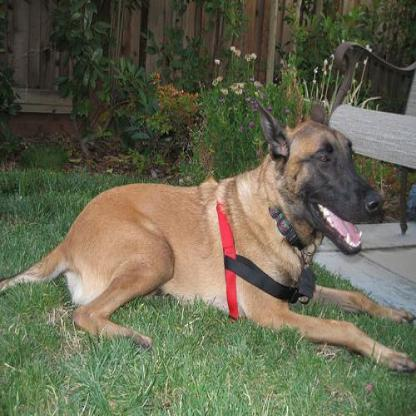malinois: (0, 100, 414, 370)
